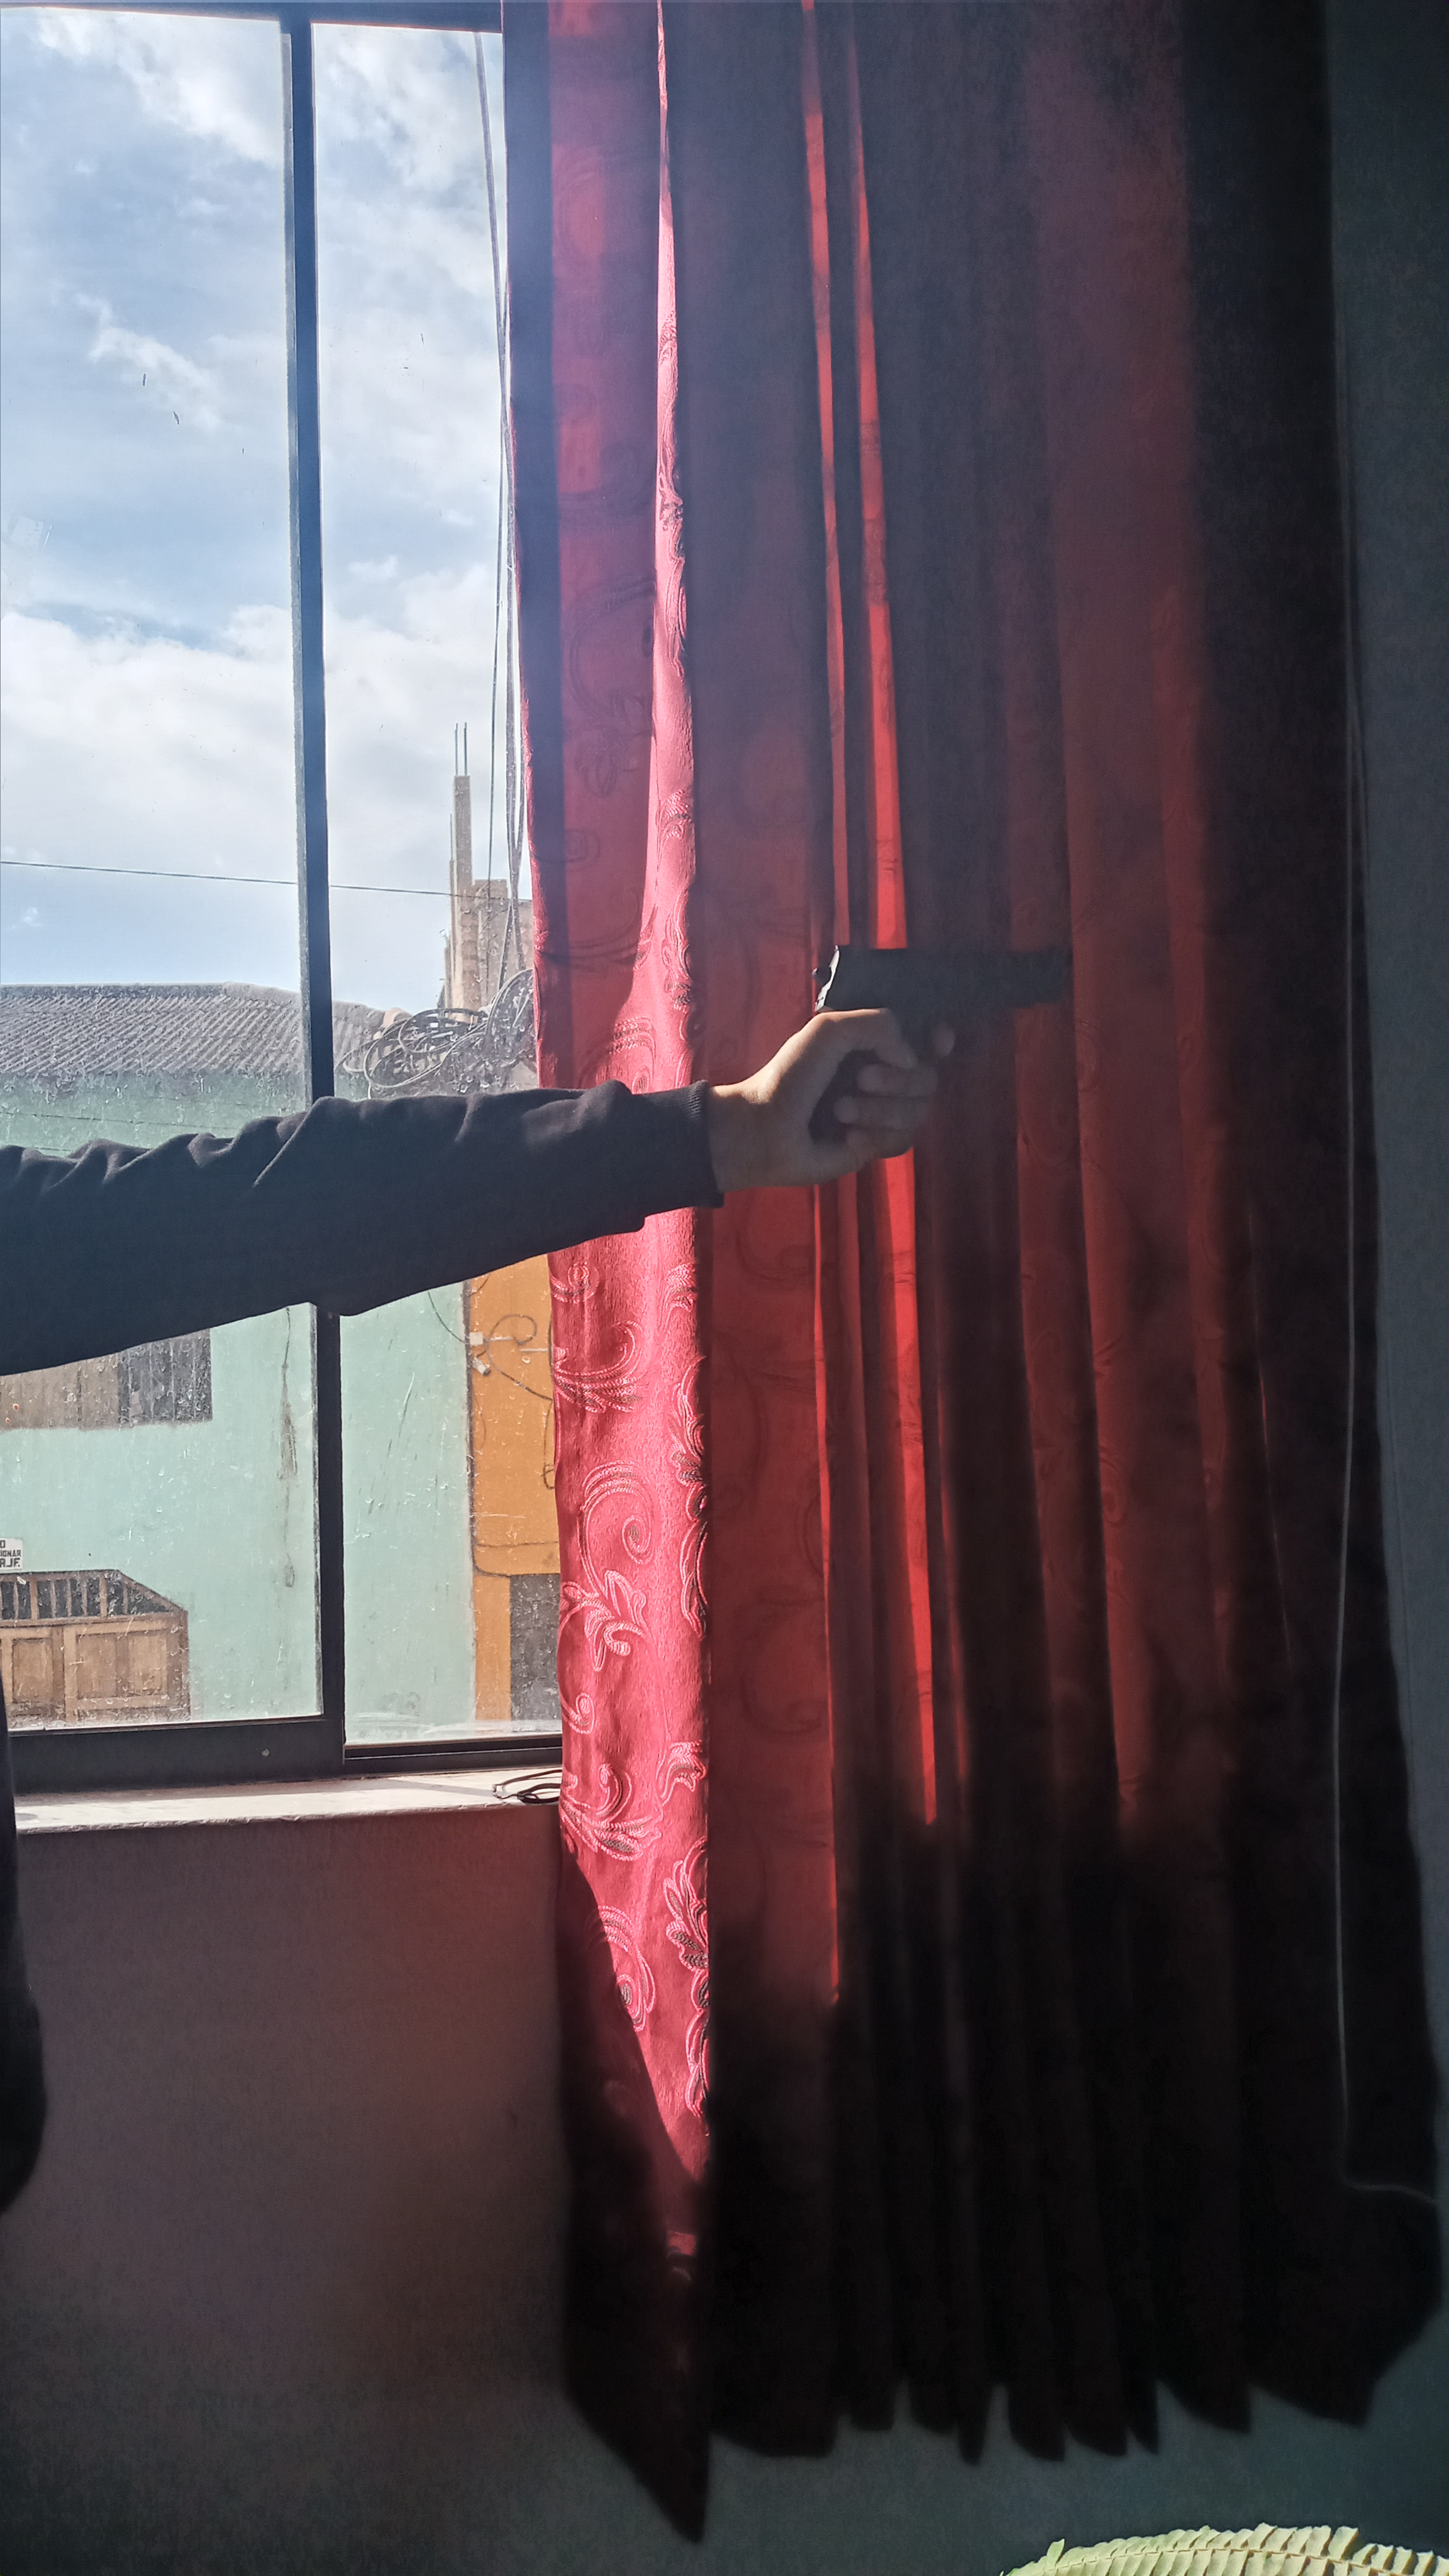Arma: (796, 947, 1083, 1033)
